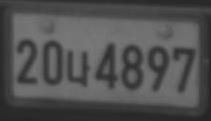0: (42, 40, 62, 85)
2: (15, 39, 38, 84)
4: (94, 42, 118, 89)
7: (173, 47, 195, 93)
8: (120, 44, 144, 90)
9: (147, 46, 169, 91)
나: (66, 49, 90, 86)
